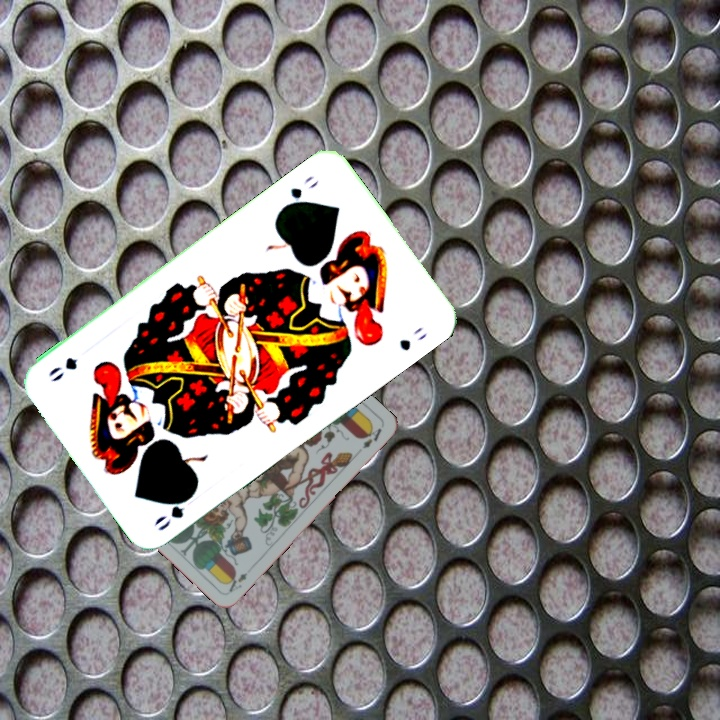EA: (222, 569, 250, 595)
GO: (150, 487, 199, 534), (277, 171, 322, 212)
